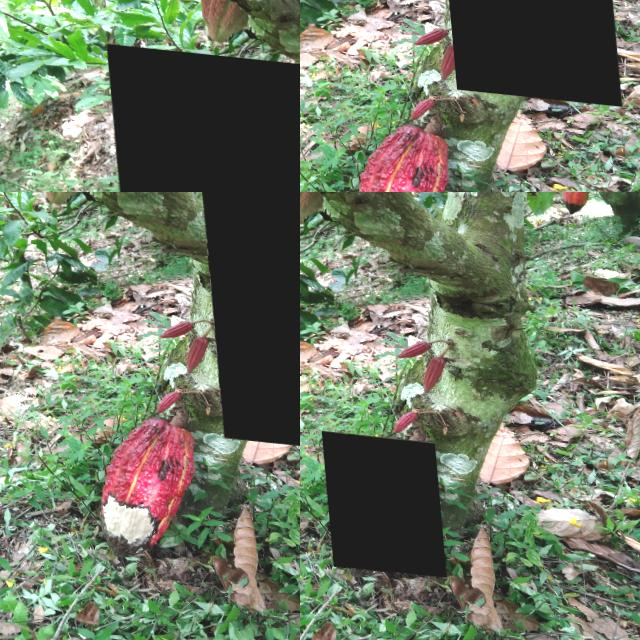Fitoftora: (33, 192, 220, 347), (191, 192, 300, 449), (558, 192, 590, 206)
Monilia: (315, 426, 437, 571)
Sana: (103, 41, 300, 192), (431, 0, 615, 94), (417, 345, 442, 388), (390, 331, 422, 354), (386, 403, 411, 427)
